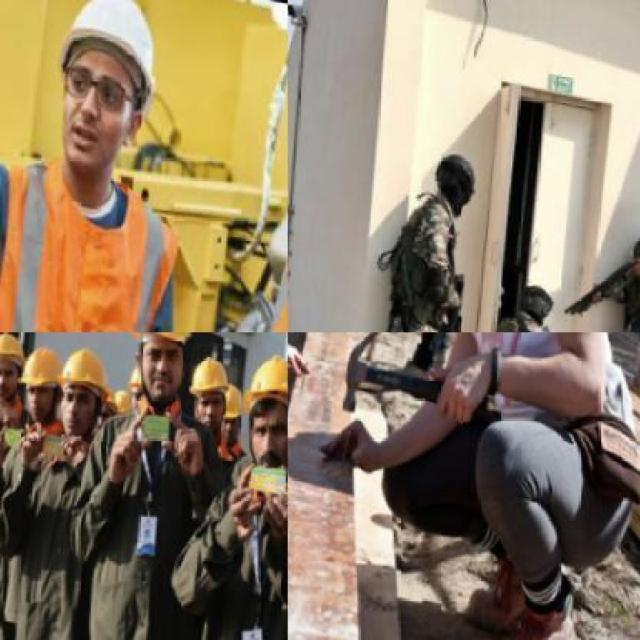Vest: (66, 391, 226, 638), (0, 142, 202, 330), (8, 430, 102, 638), (185, 462, 286, 638), (383, 197, 463, 325), (0, 394, 23, 638), (476, 294, 566, 331), (622, 212, 638, 331)
